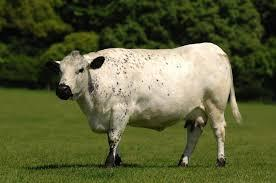cow: (54, 42, 241, 168)
